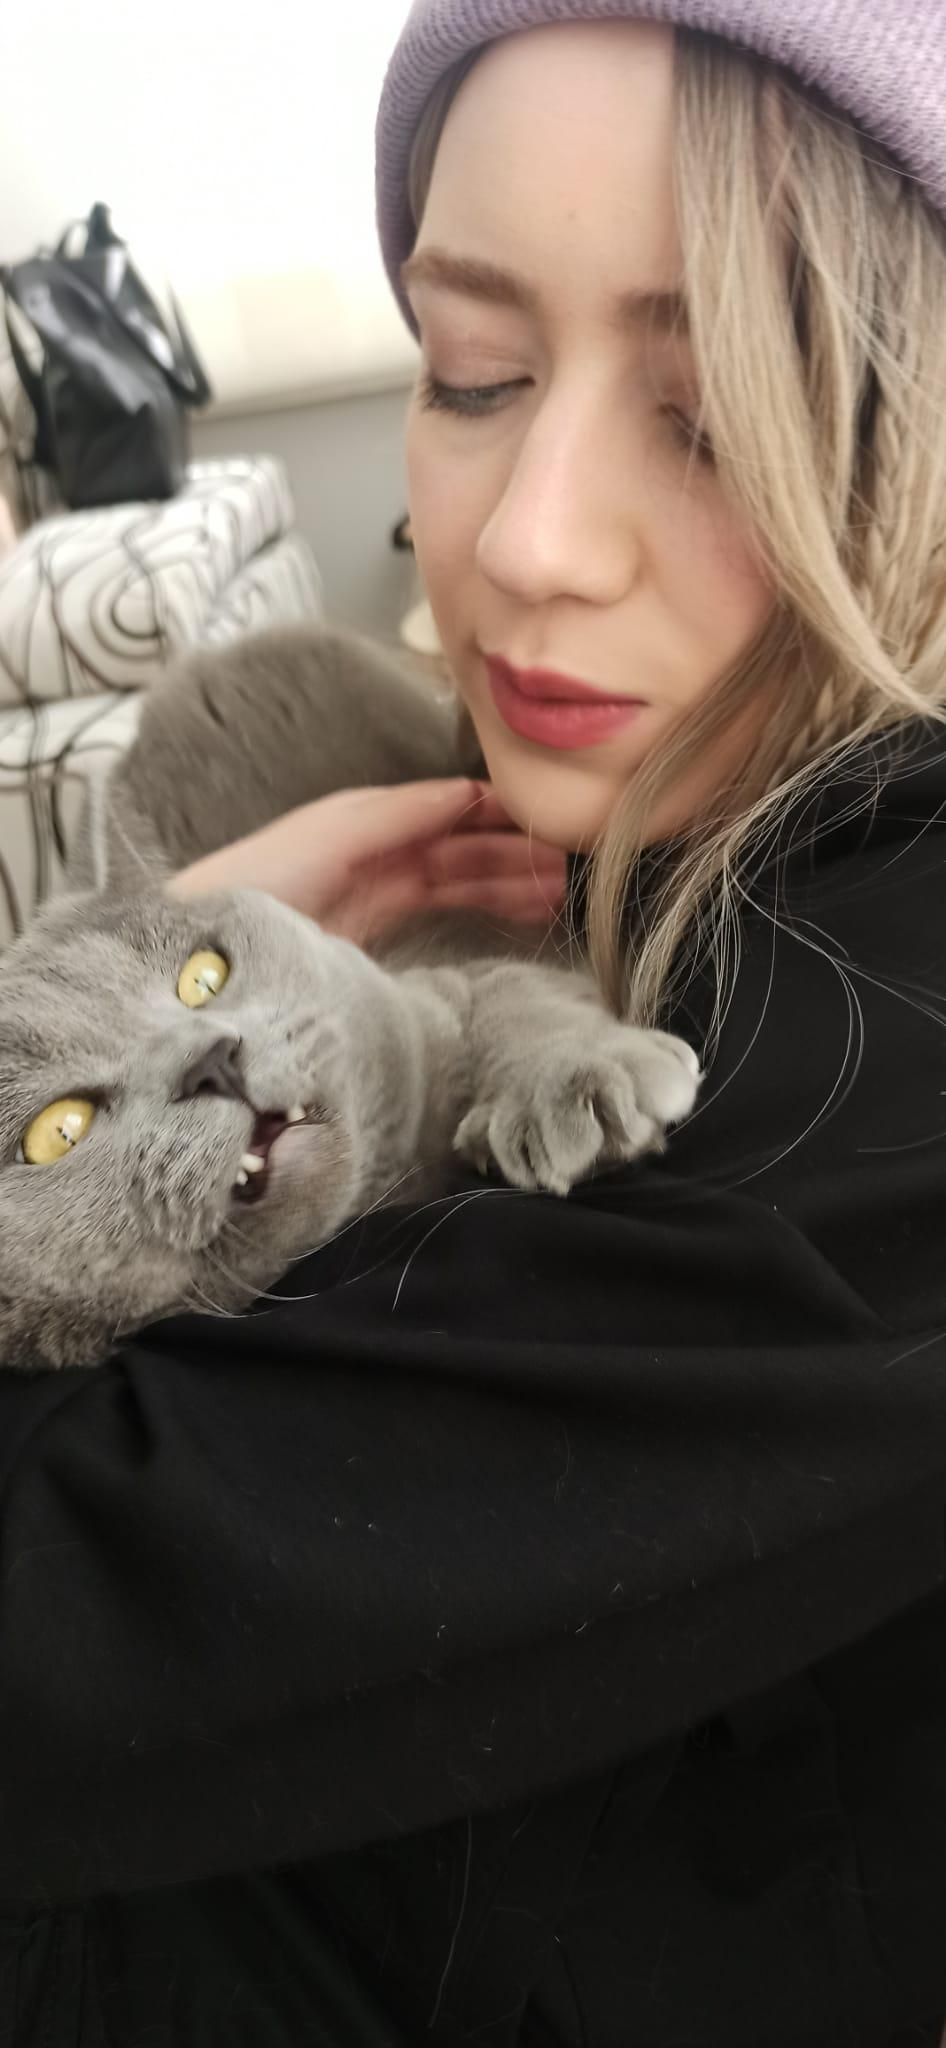kedo: (0, 876, 690, 1383)
